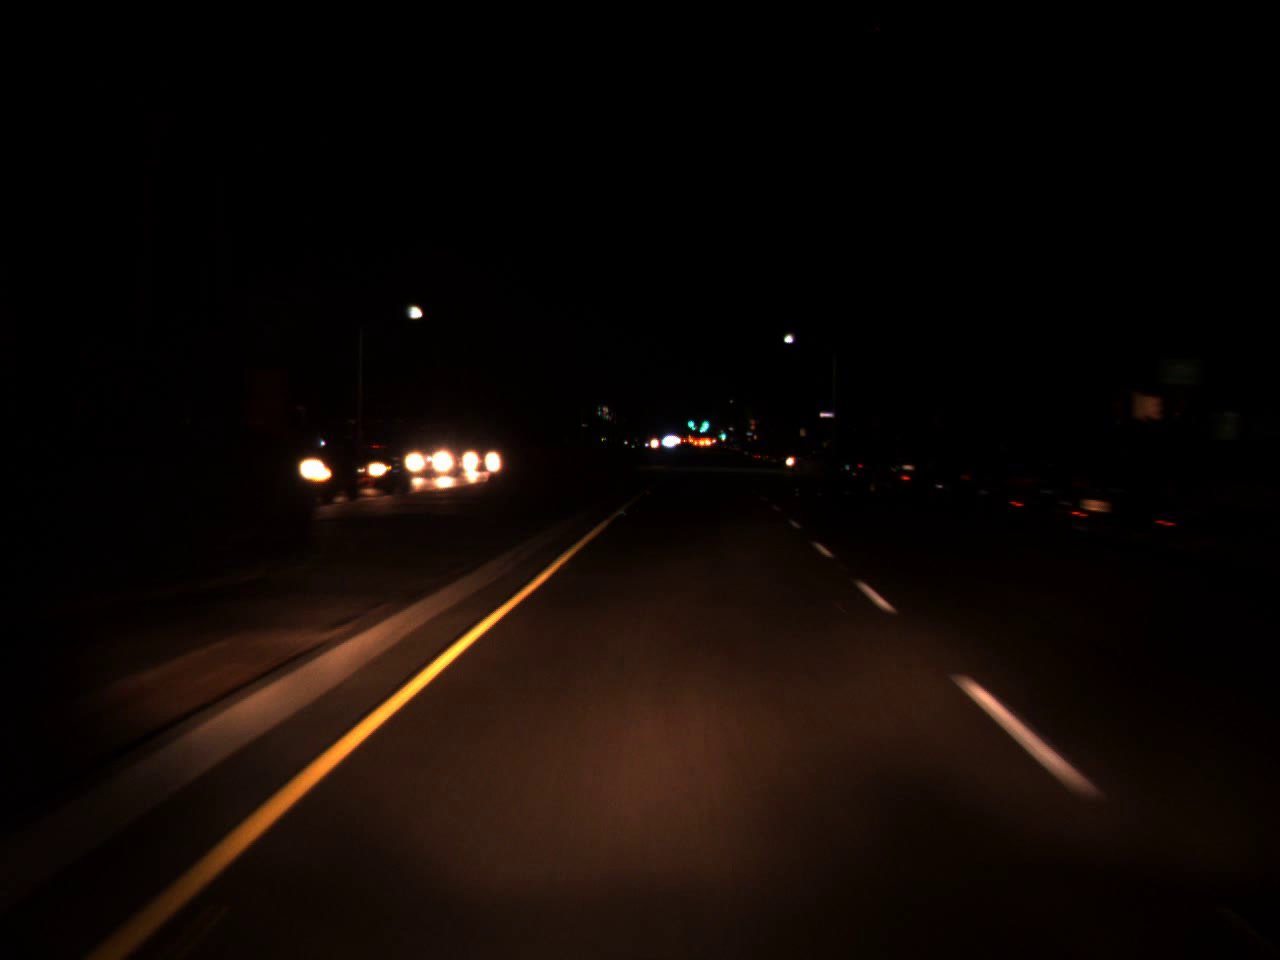go: (696, 407, 710, 437), (685, 411, 695, 432), (717, 428, 727, 440)
